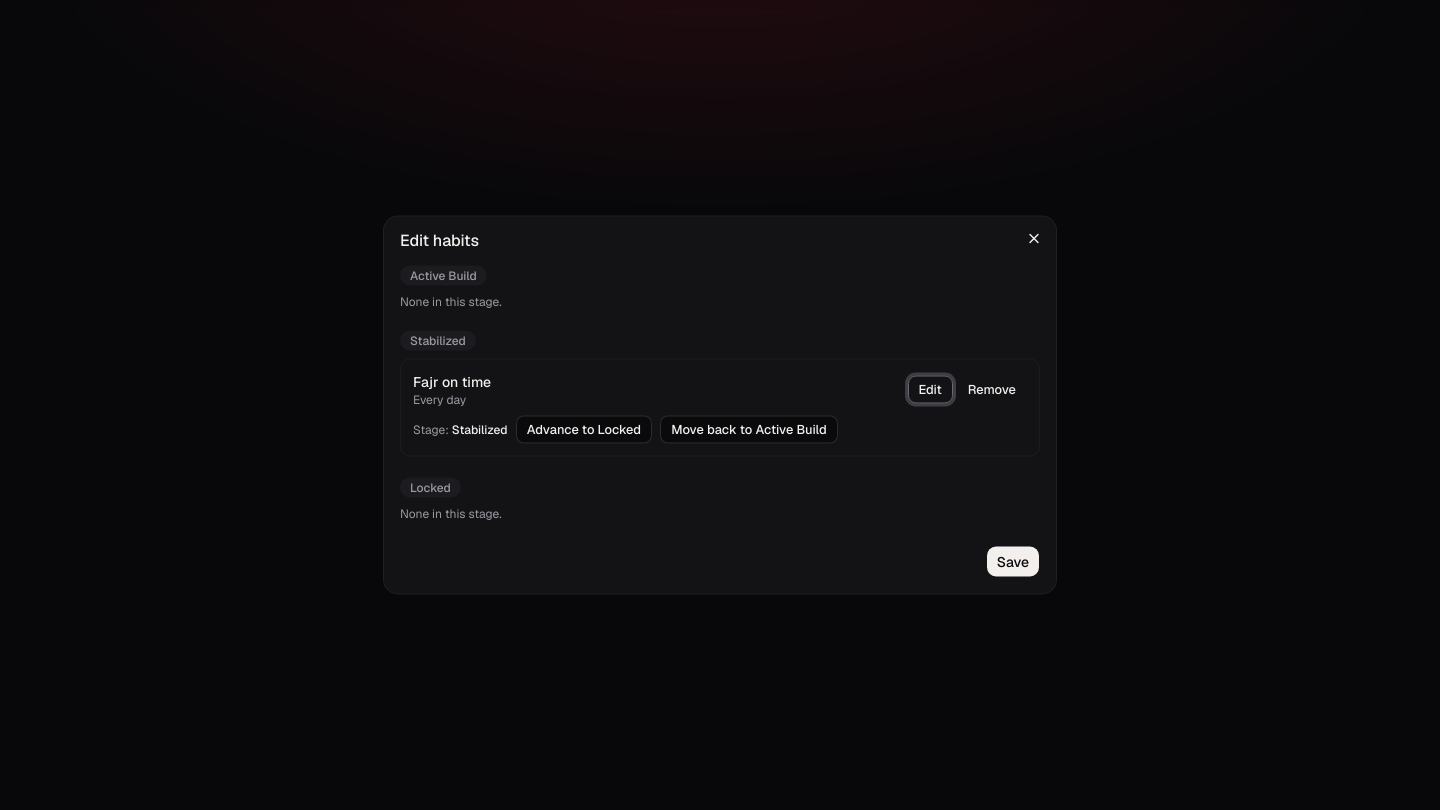
Test case: HabitEditorDialog — cadence (HABIT-FREQ) › Advanced: an invalid cadence cannot be saved, and a failed save says so without changing the list
Click the button "Edit": (930, 390) [908,376,953,404]
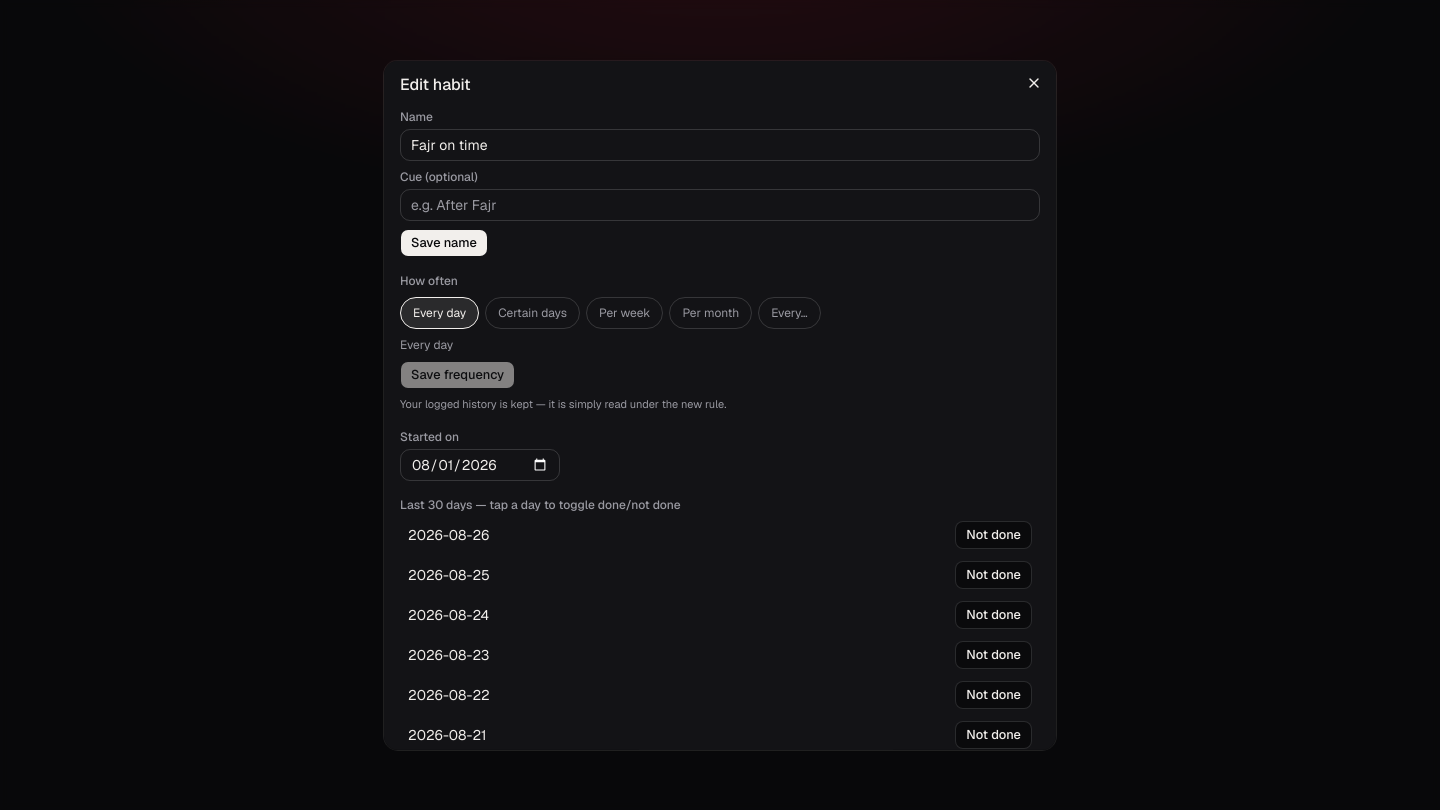
Click the radio button labelled "Per week": (625, 313) [586,297,663,329]
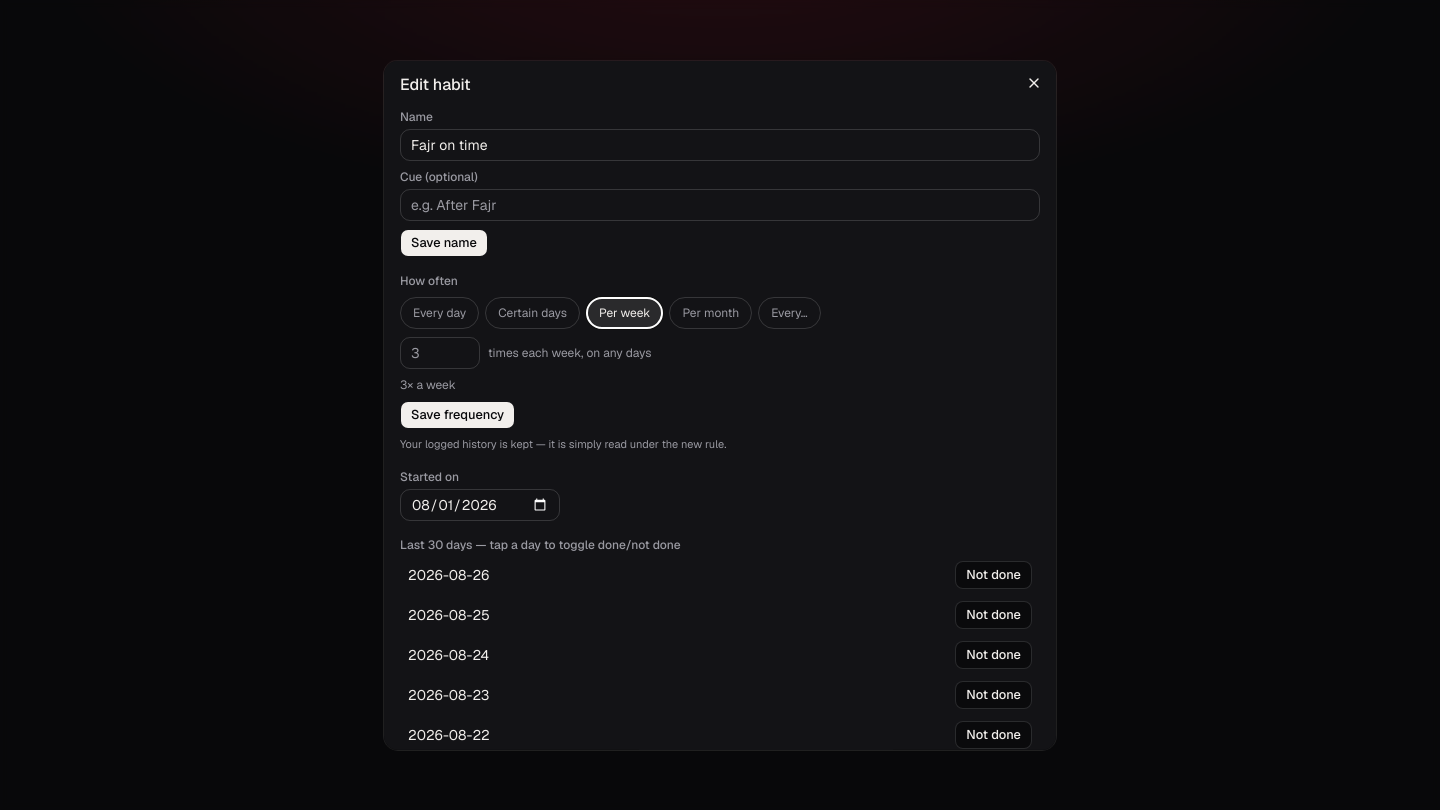
Replace the text in the number field named "Times per week" with "9": (440, 353) [400,337,480,369]
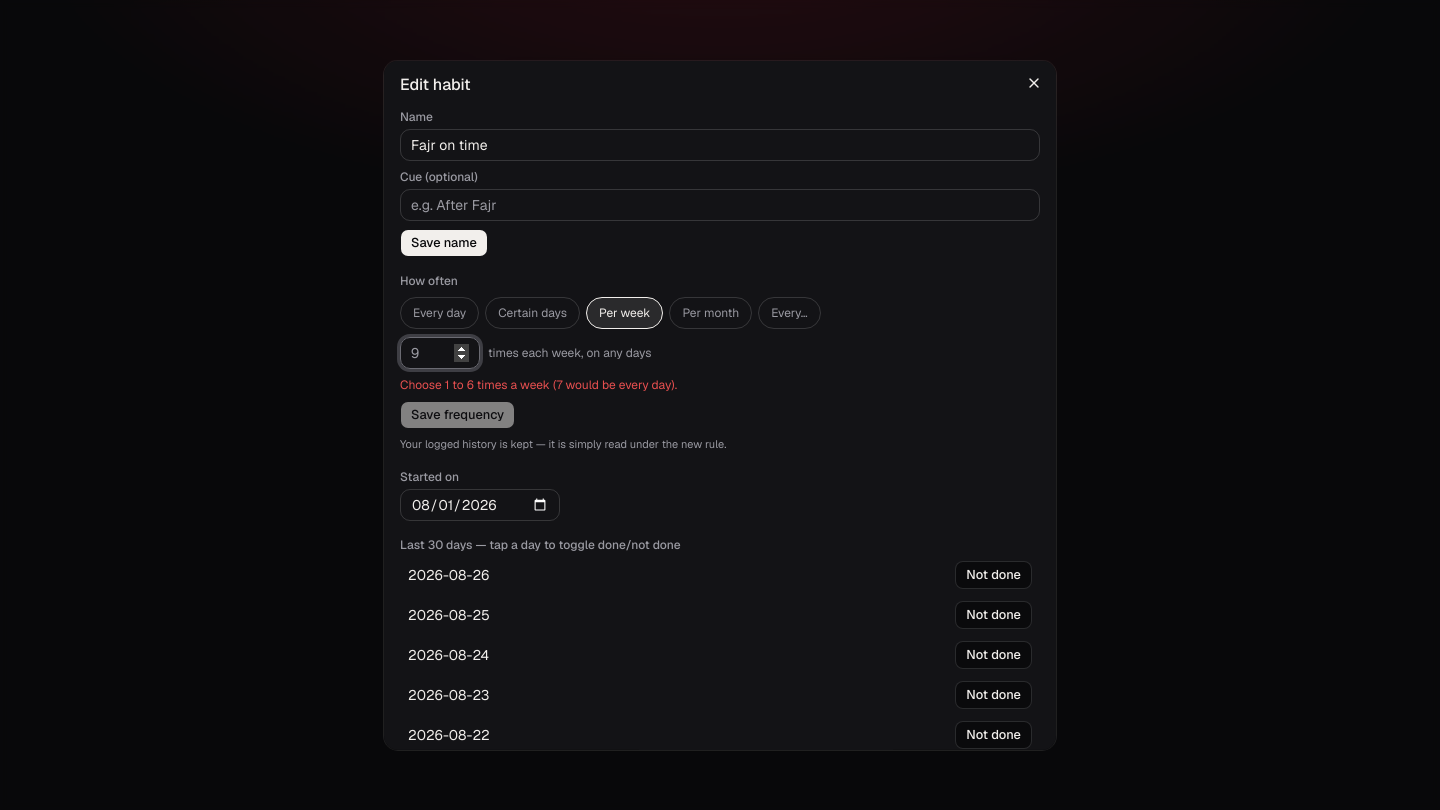
Expected: the button "Save frequency" is disabled, [400,401,515,429]
Replace the text in the number field named "Times per week" with "2": (440, 353) [400,337,480,369]
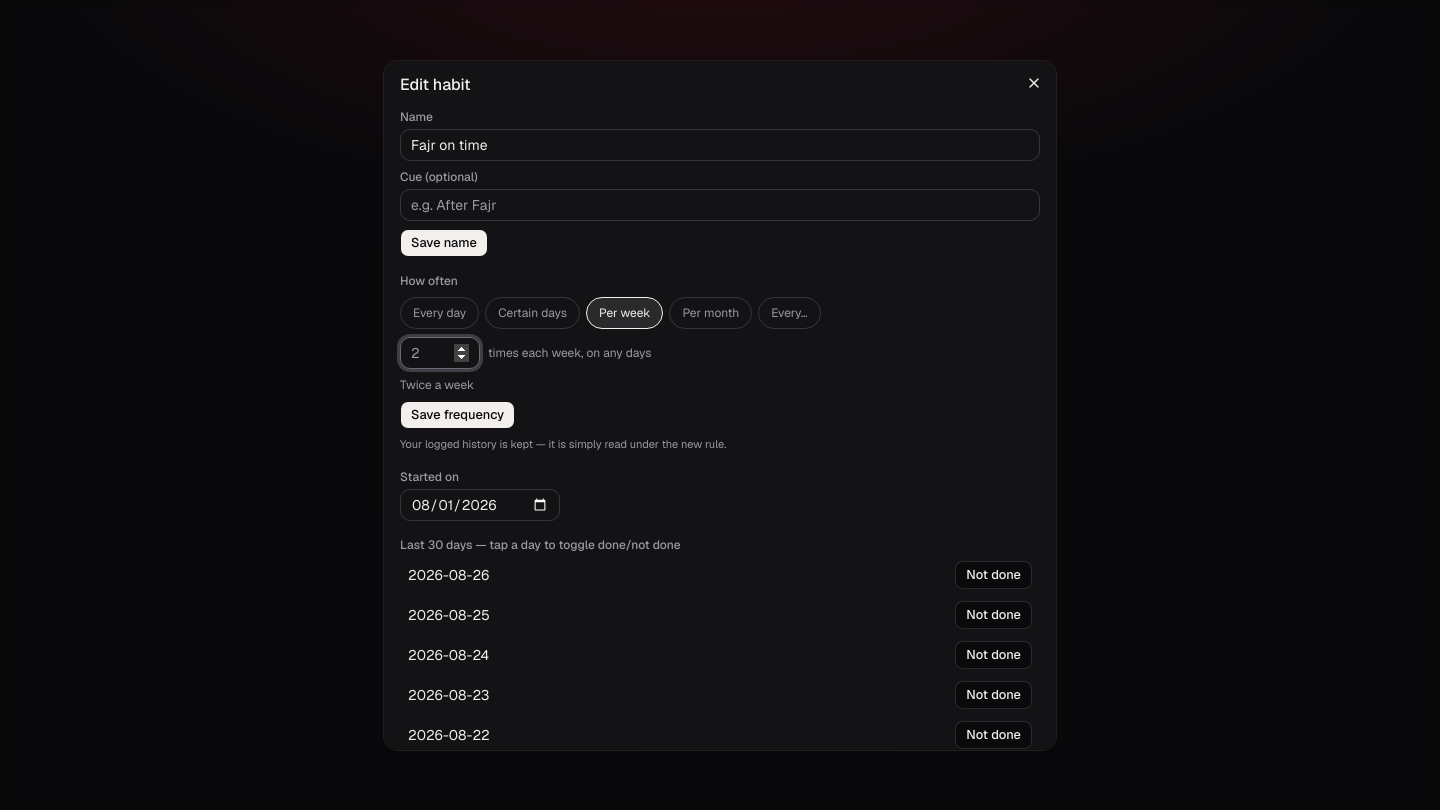
Click the button "Save frequency": (458, 415) [400,401,515,429]
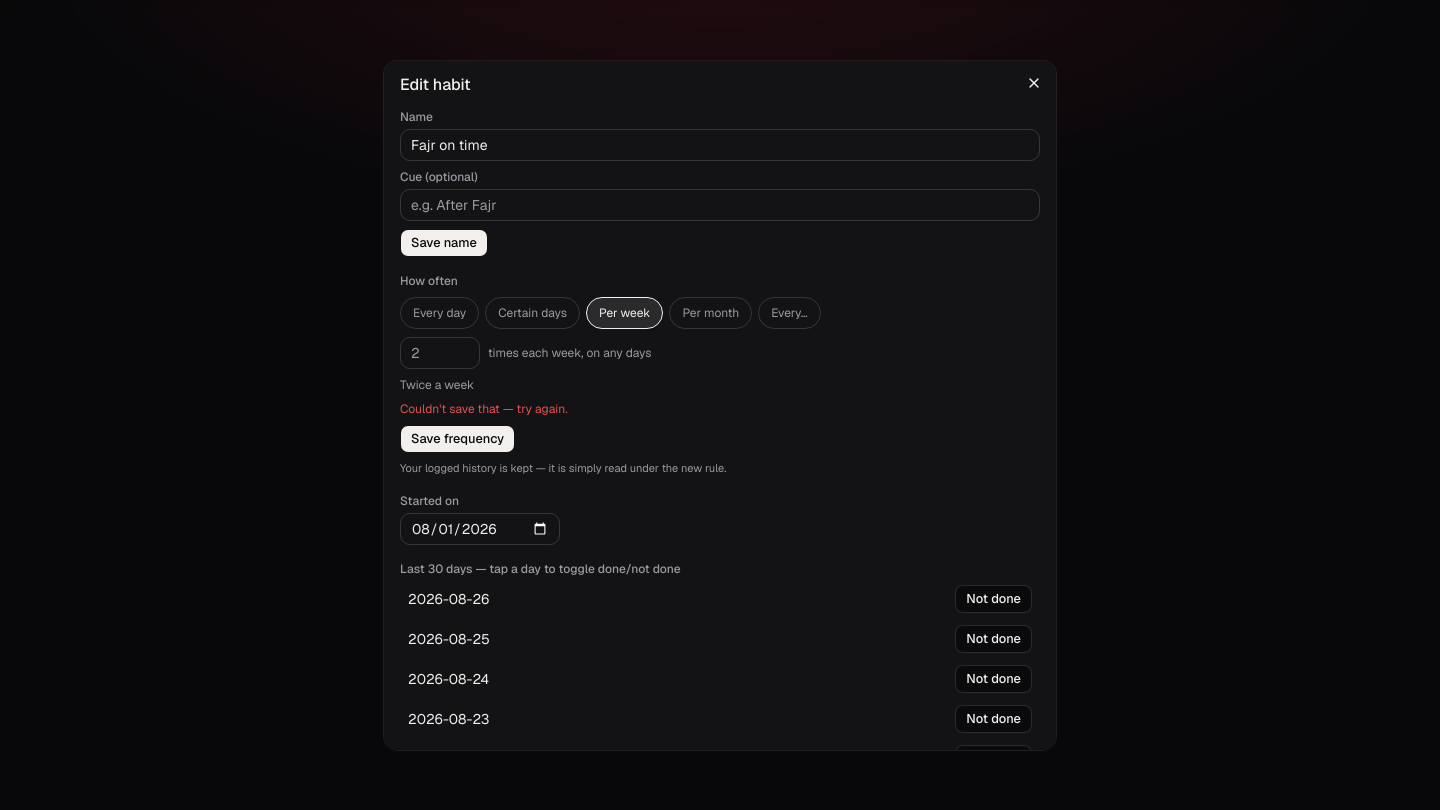
Expected: the text "Couldn't save that — try again." is shown, [400,401,568,417]
